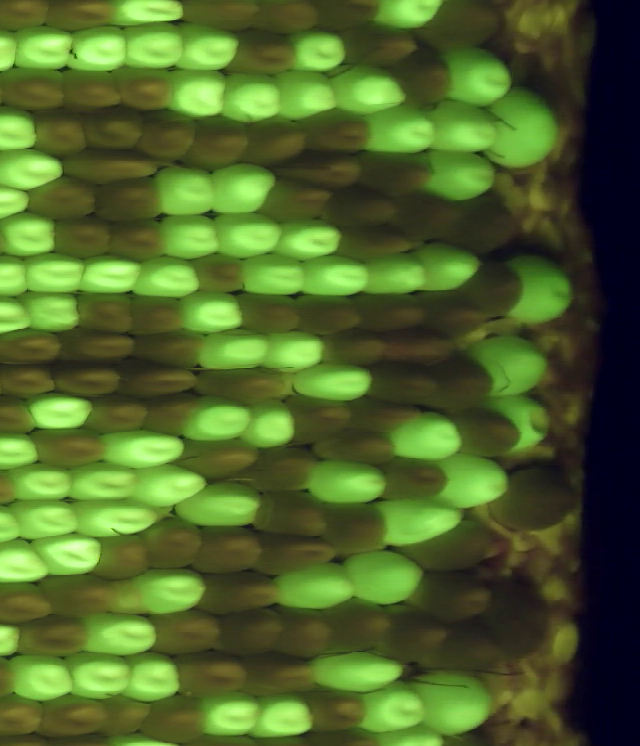fluorescent: (482, 82, 564, 176), (498, 249, 584, 336), (405, 665, 497, 738), (335, 543, 431, 612), (306, 641, 415, 701), (461, 331, 553, 401), (369, 489, 468, 551), (384, 405, 474, 471), (268, 556, 363, 618), (301, 451, 396, 512), (429, 449, 517, 514), (171, 479, 269, 534), (325, 58, 409, 122), (435, 47, 518, 110), (358, 101, 445, 161), (426, 91, 506, 156), (93, 422, 193, 474), (75, 608, 166, 665), (67, 493, 167, 544), (351, 678, 434, 739), (485, 389, 558, 458), (422, 144, 503, 206), (128, 458, 212, 517), (177, 388, 258, 449), (158, 62, 237, 124), (6, 20, 88, 79), (129, 562, 211, 620), (205, 159, 281, 221), (3, 649, 81, 709), (62, 647, 141, 706), (207, 205, 290, 261), (147, 162, 224, 222), (170, 16, 245, 77), (411, 238, 487, 298), (216, 69, 291, 128), (61, 20, 137, 78), (235, 247, 315, 302), (289, 359, 382, 406), (2, 493, 89, 543), (191, 326, 275, 377), (155, 207, 226, 266), (273, 65, 340, 126), (120, 645, 187, 706), (236, 397, 305, 456), (64, 455, 143, 506), (119, 15, 185, 76), (268, 212, 350, 261), (295, 252, 375, 302), (357, 249, 435, 299), (130, 253, 208, 303), (247, 689, 322, 741), (73, 249, 150, 299), (18, 249, 95, 299), (23, 387, 103, 435), (5, 459, 85, 507), (29, 530, 107, 579), (196, 687, 268, 739), (175, 286, 245, 339), (257, 327, 332, 376), (284, 23, 346, 78), (17, 286, 85, 336), (0, 145, 69, 194), (0, 207, 65, 259), (0, 536, 55, 588), (108, 1, 195, 31), (370, 1, 449, 34), (0, 101, 46, 156), (0, 424, 45, 476), (0, 249, 35, 303), (0, 179, 37, 227), (0, 292, 36, 339), (0, 499, 30, 549)
nonfluorescent: (478, 569, 555, 666), (483, 463, 585, 536), (395, 516, 510, 578), (49, 141, 170, 190), (310, 498, 398, 563), (441, 191, 527, 257), (320, 593, 400, 662), (409, 566, 499, 627), (246, 527, 341, 584), (424, 349, 501, 419), (289, 103, 379, 162), (372, 601, 454, 665), (422, 619, 508, 680), (387, 185, 468, 249), (455, 254, 529, 324), (163, 648, 253, 705), (29, 569, 120, 625), (351, 146, 442, 202), (332, 18, 423, 74), (180, 112, 258, 177), (383, 39, 455, 109), (314, 180, 405, 235), (195, 566, 289, 619), (279, 389, 362, 449), (18, 421, 117, 471), (420, 1, 509, 55), (111, 356, 209, 405), (251, 485, 335, 542), (448, 401, 526, 462), (126, 105, 201, 168), (188, 365, 295, 409), (172, 435, 264, 486), (104, 61, 182, 121), (235, 113, 317, 170), (239, 648, 325, 702), (268, 147, 371, 192), (271, 599, 340, 666), (413, 282, 491, 341), (187, 524, 270, 579), (346, 285, 434, 336), (22, 103, 98, 162), (361, 359, 450, 409), (144, 605, 226, 659), (23, 169, 102, 225), (342, 390, 427, 442), (372, 324, 466, 371), (214, 607, 293, 662), (226, 288, 311, 339), (332, 219, 417, 270), (49, 322, 139, 370), (76, 100, 150, 158), (52, 60, 130, 115), (373, 456, 455, 508), (16, 607, 93, 662), (33, 689, 116, 740), (0, 63, 75, 119), (138, 515, 211, 572), (257, 176, 338, 227), (129, 323, 215, 371), (223, 28, 299, 82), (245, 443, 325, 494), (89, 175, 169, 226), (318, 325, 399, 374), (140, 688, 208, 746), (48, 213, 121, 267), (295, 289, 369, 342), (312, 426, 403, 469), (45, 359, 129, 405), (67, 288, 142, 339), (78, 389, 156, 437), (105, 213, 173, 268), (303, 685, 372, 739), (123, 285, 192, 339), (141, 387, 205, 442), (175, 1, 272, 37), (88, 530, 155, 582), (240, 1, 327, 39), (189, 249, 253, 298), (41, 1, 124, 38), (0, 358, 66, 404), (0, 326, 70, 369), (98, 689, 157, 740), (0, 579, 59, 629), (307, 1, 383, 37), (0, 691, 53, 740), (0, 389, 47, 443), (0, 1, 60, 35)
